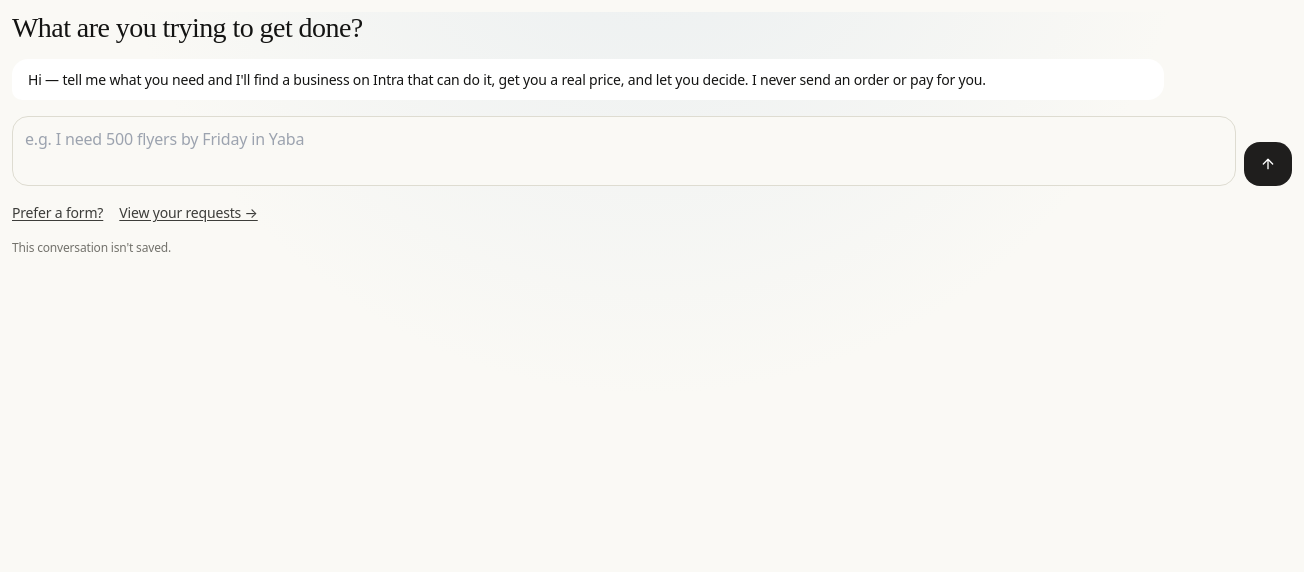
Test case: ConversationView › workspace header — persistent agent-work status (Priority 7) › shows an accurate quote-progress phrase once quotes are in flight
Type "500 flyers" into the text box named "message" at (624, 151), box [12,116,1236,186]
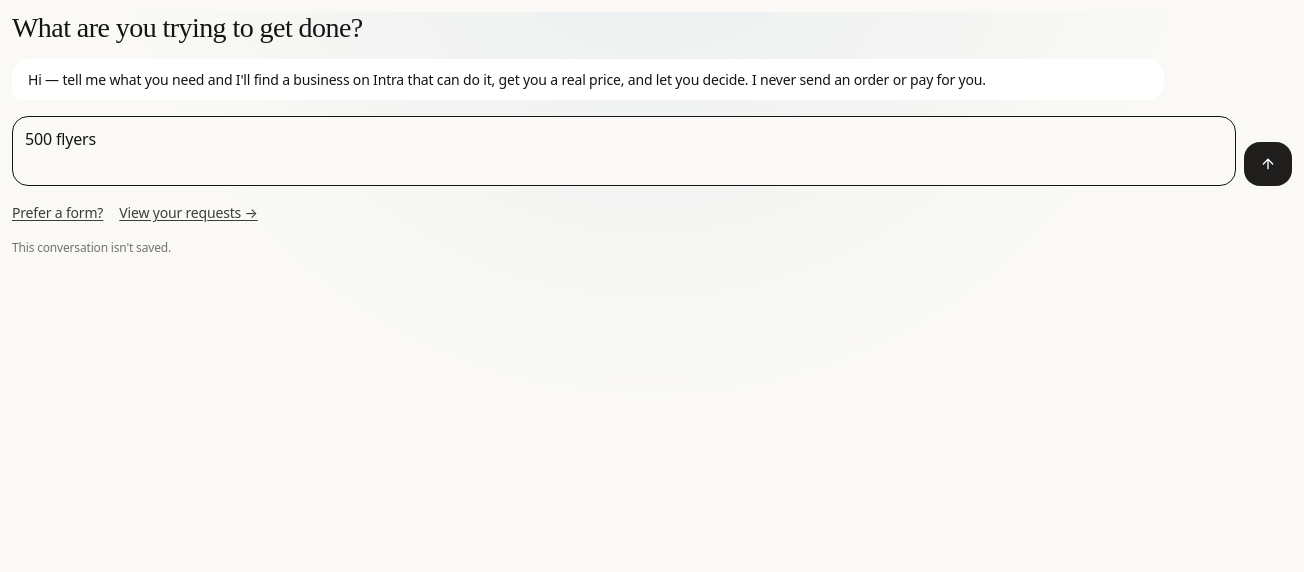
Click the button named "send" at (1268, 164), box [1244,142,1292,186]
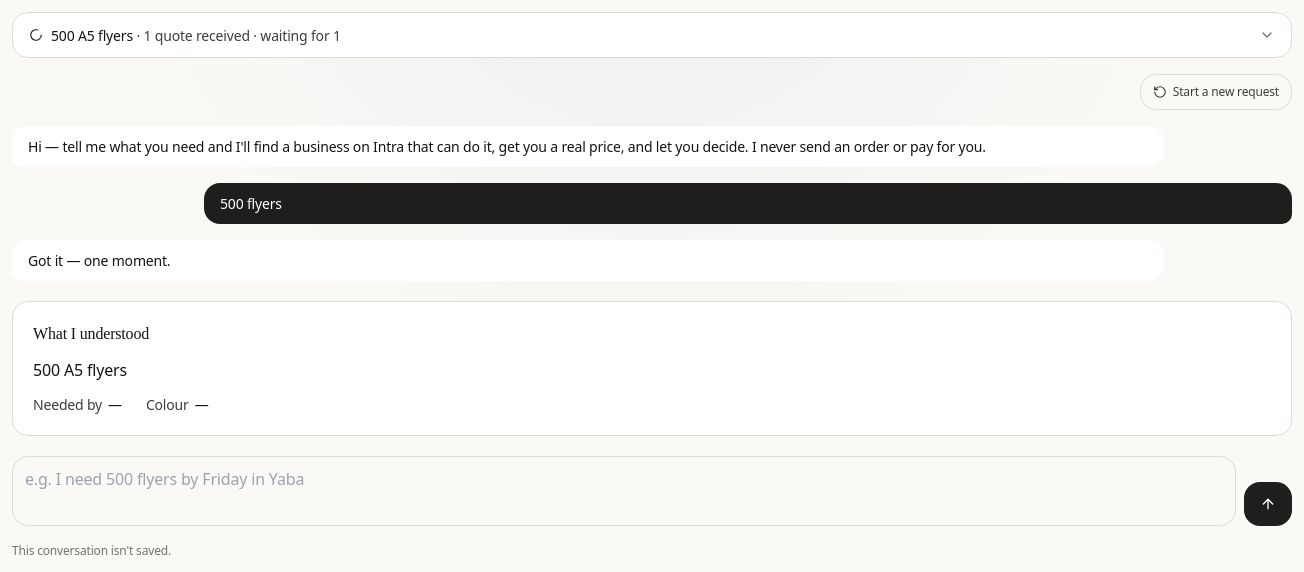
Expected: the text "Got it — one moment." is shown, [12,240,1164,281]
Expected: the text "· 1 quote received · waiting for 1" is shown, [133,26,341,44]
